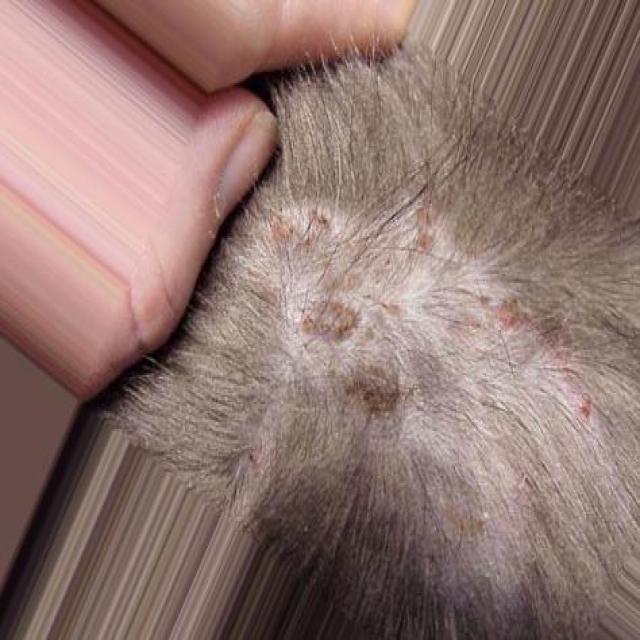di ung bo chet: (231, 89, 549, 572)
